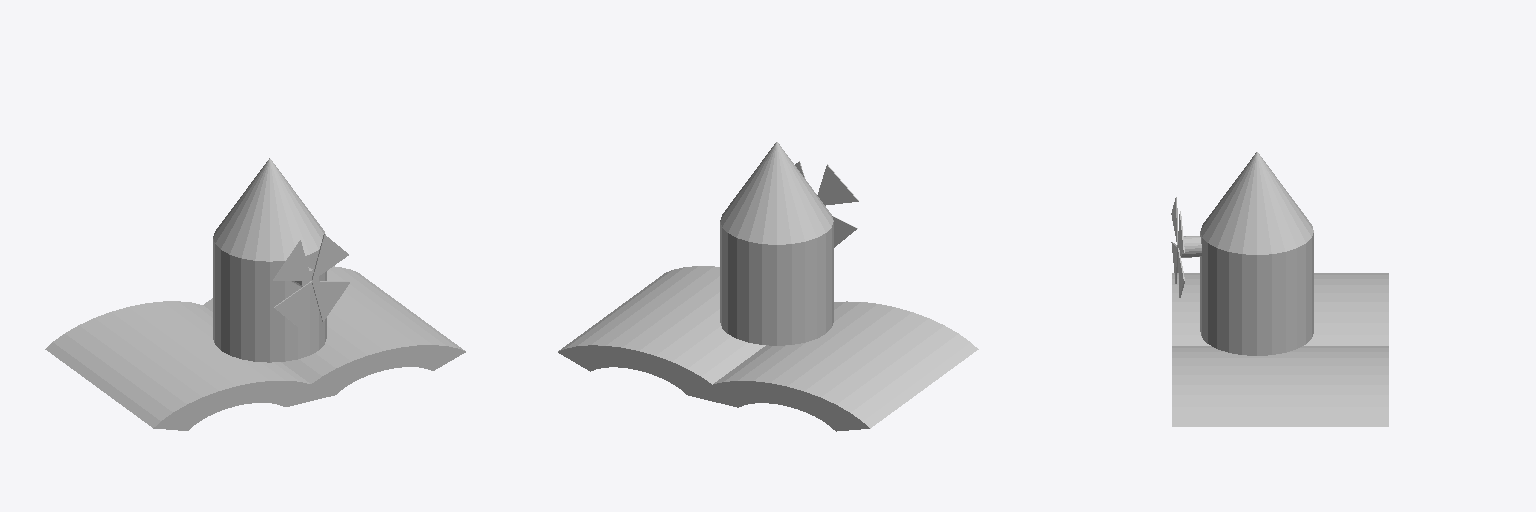
Rendered from Moinho.obj.
The picture shows the model from 3 angles: view 1: azimuth 30°, elevation 25°; view 2: azimuth 150°, elevation 25°; view 3: azimuth 270°, elevation 25°; orthographic projection.
Visible parts, largest first — view 1: Mesh3 Group3 Model, Mesh2 Group1 Model, Mesh5 Group5 Model; view 2: Mesh3 Group3 Model, Mesh2 Group1 Model, Mesh5 Group5 Model; view 3: Mesh3 Group3 Model, Mesh2 Group1 Model, Mesh5 Group5 Model.
Part boxes in pixels (x1,y1,x2,y2): Mesh3 Group3 Model: (213,158,326,362); Mesh2 Group1 Model: (153,266,465,430); Mesh5 Group5 Model: (273,234,349,327); Mesh3 Group3 Model: (720,142,833,345); Mesh2 Group1 Model: (558,266,869,431); Mesh5 Group5 Model: (795,161,858,247); Mesh3 Group3 Model: (1200,152,1313,355); Mesh2 Group1 Model: (1172,346,1388,426); Mesh5 Group5 Model: (1171,197,1184,297).
Bounding box in the file's own units: 1322 × 855 × 795.